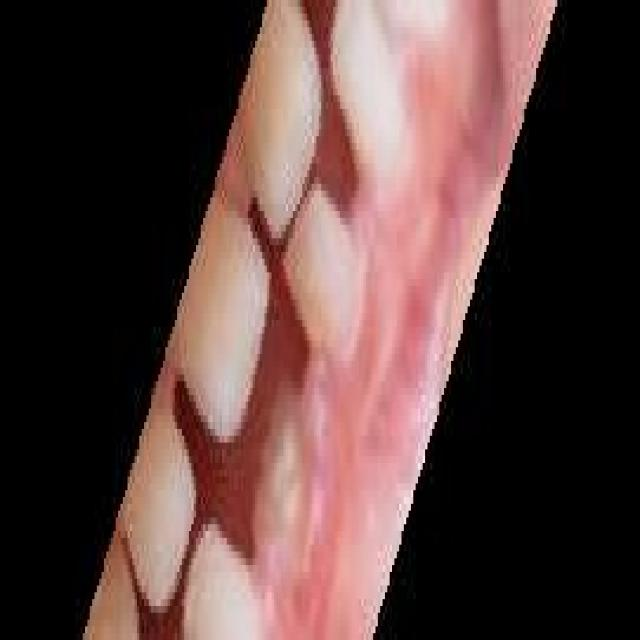caries: (248, 373, 312, 553)
